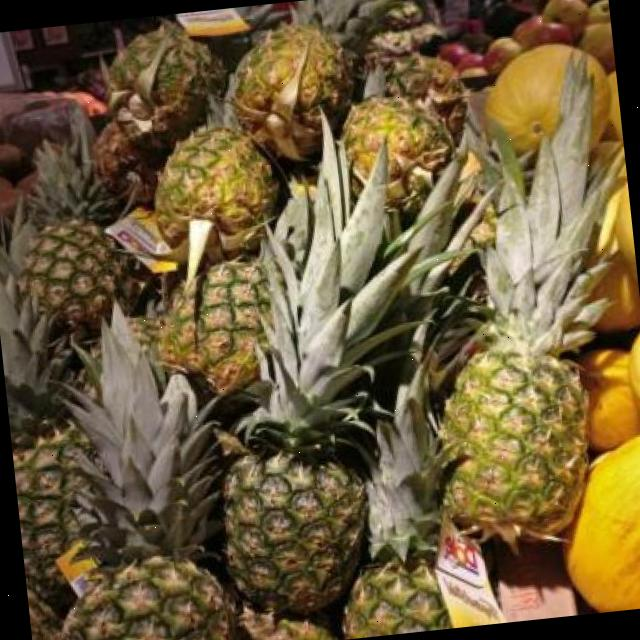pineapple: (225, 117, 413, 615), (442, 59, 620, 546), (57, 305, 235, 640), (0, 226, 87, 640), (345, 357, 449, 638), (232, 0, 392, 161), (108, 7, 249, 146), (24, 140, 121, 335), (158, 259, 269, 393), (155, 129, 278, 232), (342, 99, 452, 210), (240, 606, 335, 640)
